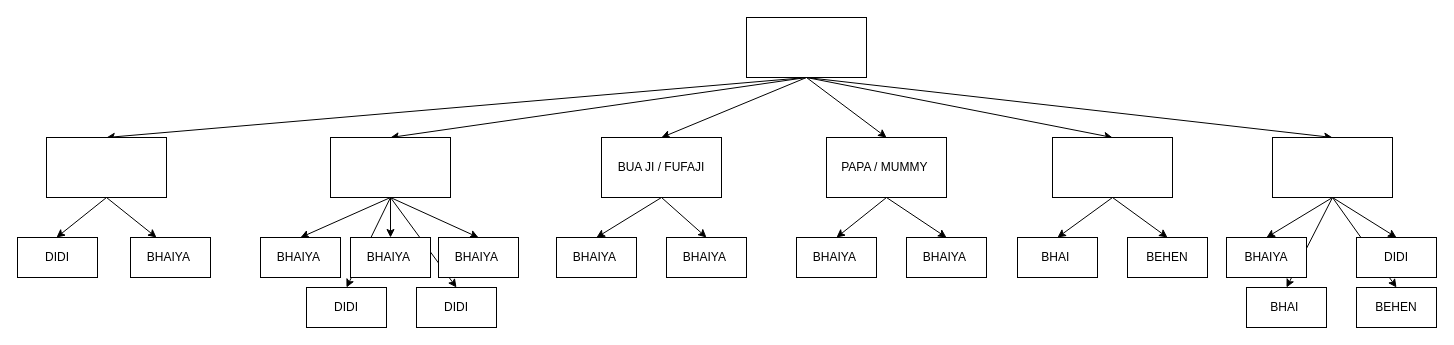
Image size: 1454x345. Some labels were removed from this diagram. Here are the shapes that lost their labels. From the top down, the centre of each, then its label:
(x=806, y=47): DADAJI/DAIJI
(x=106, y=167): BADE PAPA / BADI MUMMY == 1
(x=390, y=167): BADE PAPA / BADI MUMMY == 2
(x=1112, y=167): UNCLE / AUNTY == 1
(x=1332, y=167): UNCLE / AUNTY == 2
